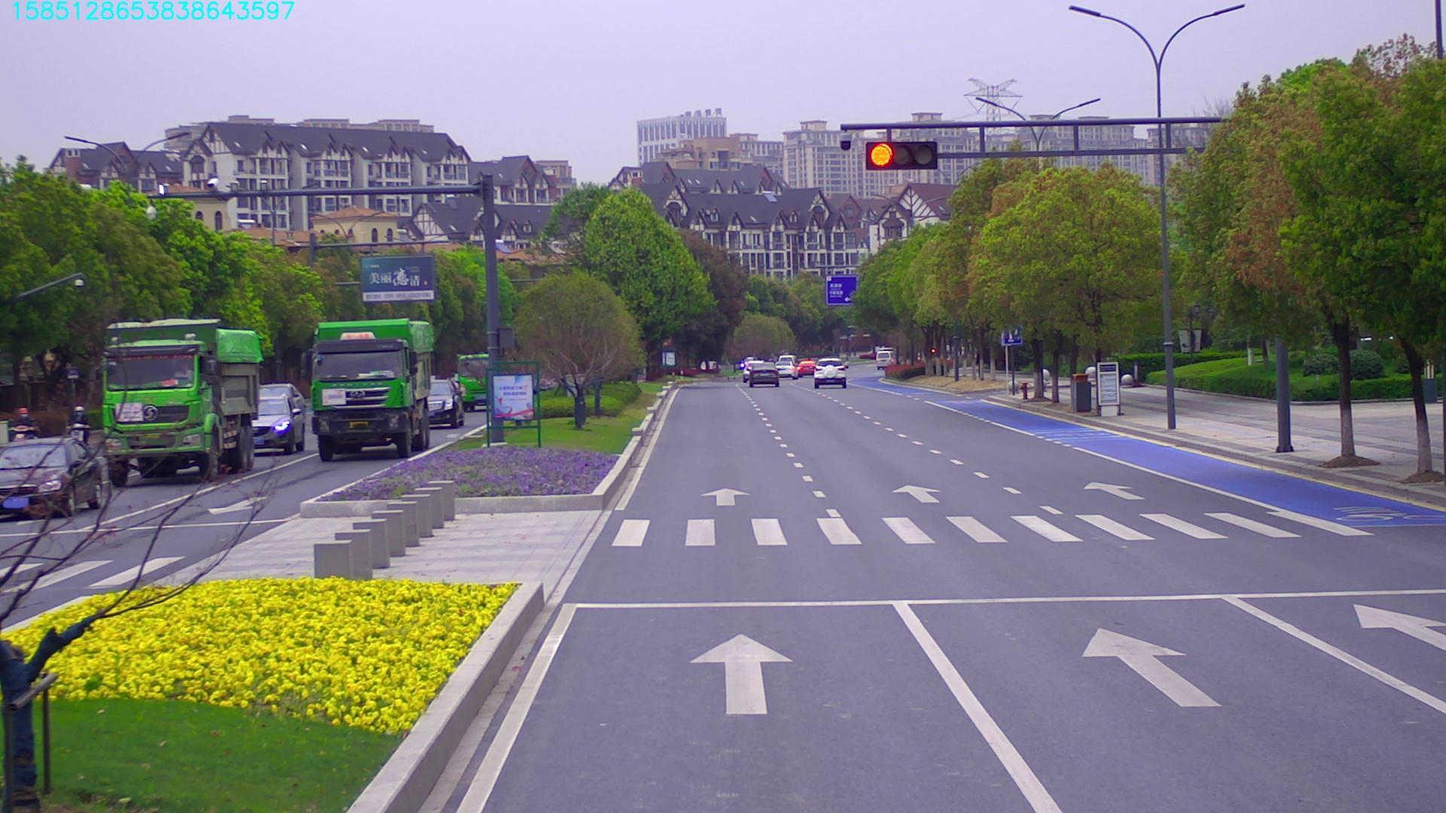red: (868, 145, 937, 173)
